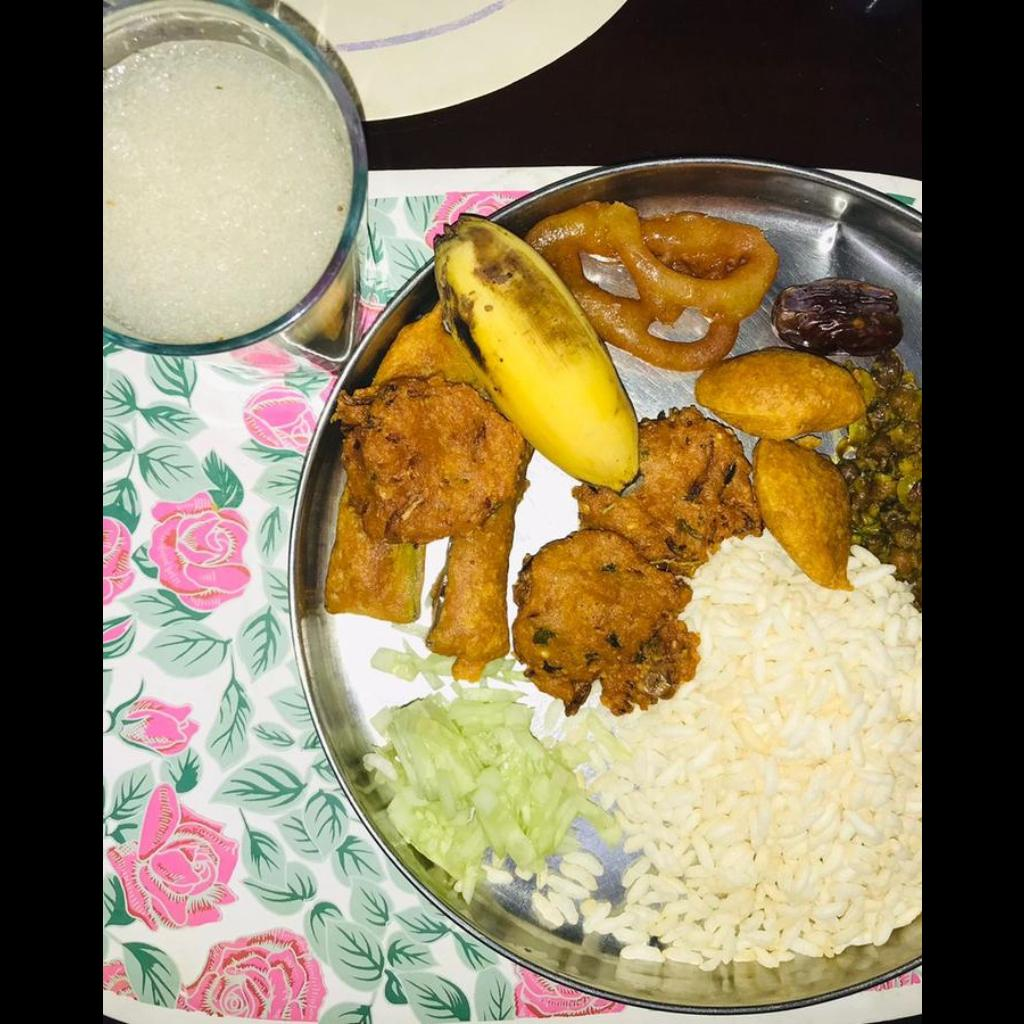banana: (436, 207, 638, 489)
chola: (832, 352, 920, 609)
chop-alu: (697, 355, 858, 580)
cucumber: (363, 686, 616, 895)
dates: (774, 280, 903, 351)
jilapi: (533, 208, 772, 367)
juice: (102, 42, 349, 342)
peyaju: (339, 384, 749, 698)
piyaju: (512, 408, 762, 715)
puffed-rice: (563, 532, 920, 969)
